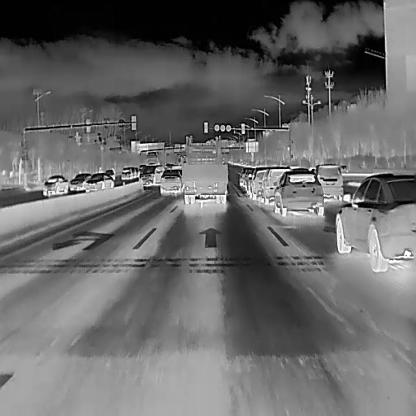car: (334, 172, 415, 272), (271, 170, 324, 217), (260, 166, 292, 204), (312, 163, 344, 199), (251, 166, 272, 199), (158, 167, 181, 195), (40, 174, 69, 195), (84, 171, 113, 191), (138, 164, 164, 186), (70, 170, 92, 192), (120, 166, 132, 180), (101, 168, 115, 180)
truck: (182, 142, 228, 204)
